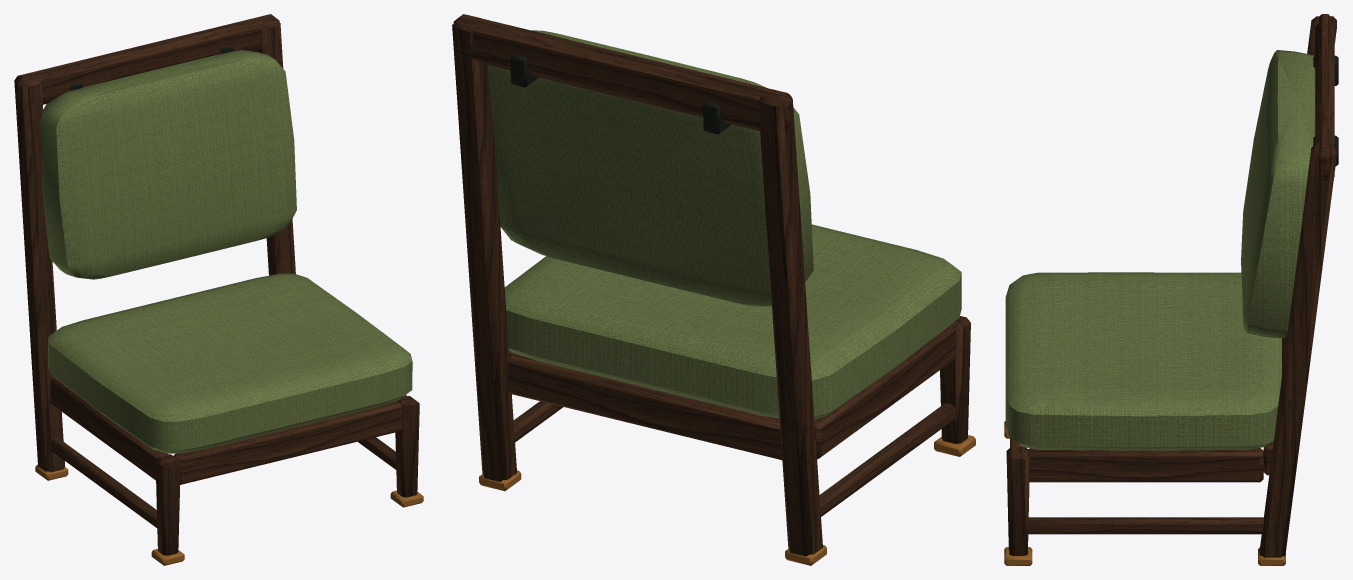
Rendered from arrival-chair.lod1.glb.
The picture shows the model from 3 angles, left to right: view 1: azimuth 30°, elevation 25°; view 2: azimuth 150°, elevation 25°; view 3: azimuth 270°, elevation 25°; orthographic projection. The views are drawn at different scales.
Parts seen in each view (by area): view 1: arrival_chair_Fabric • moss weave, arrival_chair_Timber • oiled walnut, arrival_chair_Trim • brass and bronze; view 2: arrival_chair_Fabric • moss weave, arrival_chair_Timber • oiled walnut, arrival_chair_Trim • brass and bronze; view 3: arrival_chair_Fabric • moss weave, arrival_chair_Timber • oiled walnut, arrival_chair_Trim • brass and bronze.
Part boxes in pixels (x1=…): arrival_chair_Fabric • moss weave: x1=40, y1=50, x2=412, y2=453; arrival_chair_Timber • oiled walnut: x1=14, y1=14, x2=419, y2=555; arrival_chair_Trim • brass and bronze: x1=35, y1=46, x2=423, y2=565; arrival_chair_Fabric • moss weave: x1=488, y1=30, x2=961, y2=419; arrival_chair_Timber • oiled walnut: x1=452, y1=14, x2=970, y2=556; arrival_chair_Trim • brass and bronze: x1=479, y1=54, x2=975, y2=565; arrival_chair_Fabric • moss weave: x1=1005, y1=50, x2=1315, y2=450; arrival_chair_Timber • oiled walnut: x1=1006, y1=14, x2=1336, y2=557; arrival_chair_Trim • brass and bronze: x1=1004, y1=55, x2=1338, y2=565.
Bounding box in the file's own units: 0.5978 × 0.825 × 0.5994.
3 materials, 3 textured.
